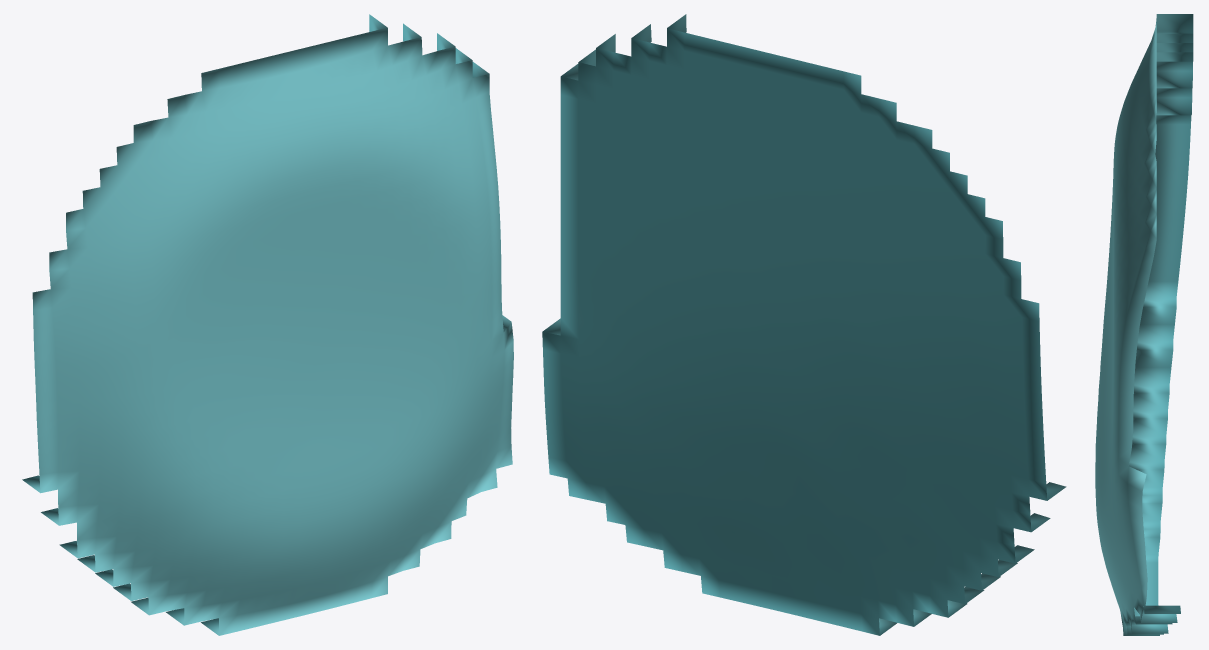
File: PAIR-OFFLOAD-5TH_RIGHT_addon.glb
3 views of the same model, side by side, from view 1: azimuth 30°, elevation 25°; view 2: azimuth 150°, elevation 25°; view 3: azimuth 270°, elevation 25° (orthographic). The views are drawn at different scales.
Parts seen in each view (by area): view 1: world; view 2: world; view 3: world.
Boxes of the visible parts, bbox=[...] form: world: bbox=[22, 14, 513, 635]; world: bbox=[542, 14, 1066, 635]; world: bbox=[1095, 14, 1193, 635].
Size of the model in its own units: 28 by 31 by 5.18.
